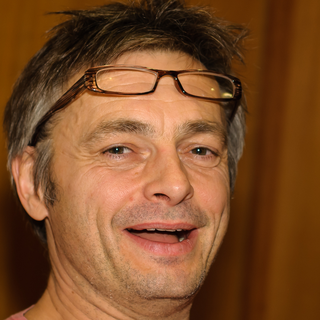eye: (95, 139, 142, 164), (180, 139, 222, 164)
